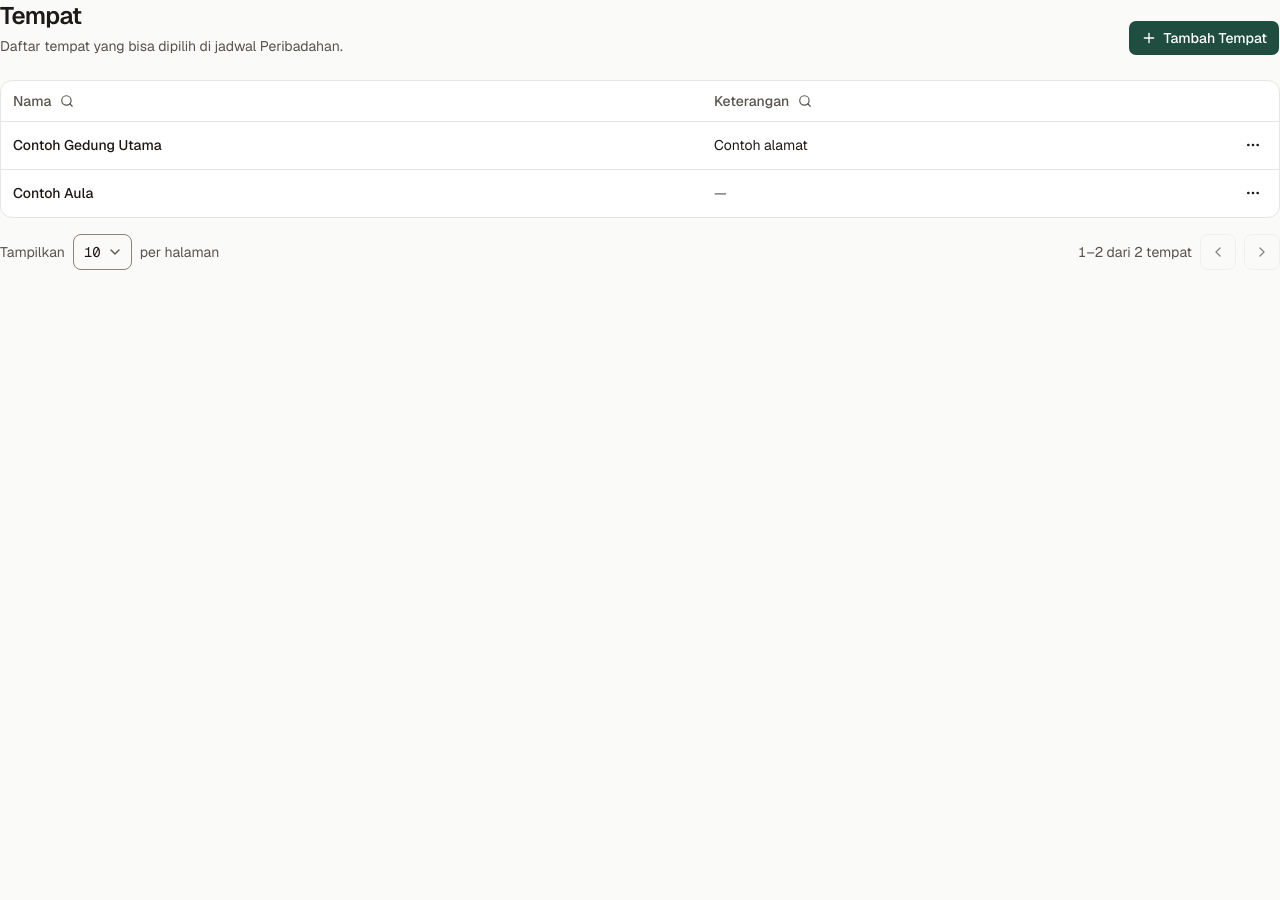
Test: MasterDataManager › adds through the dialog, trimming, then refreshes
Click the button "Tambah Tempat" at (1204, 38), box [1128, 20, 1279, 56]
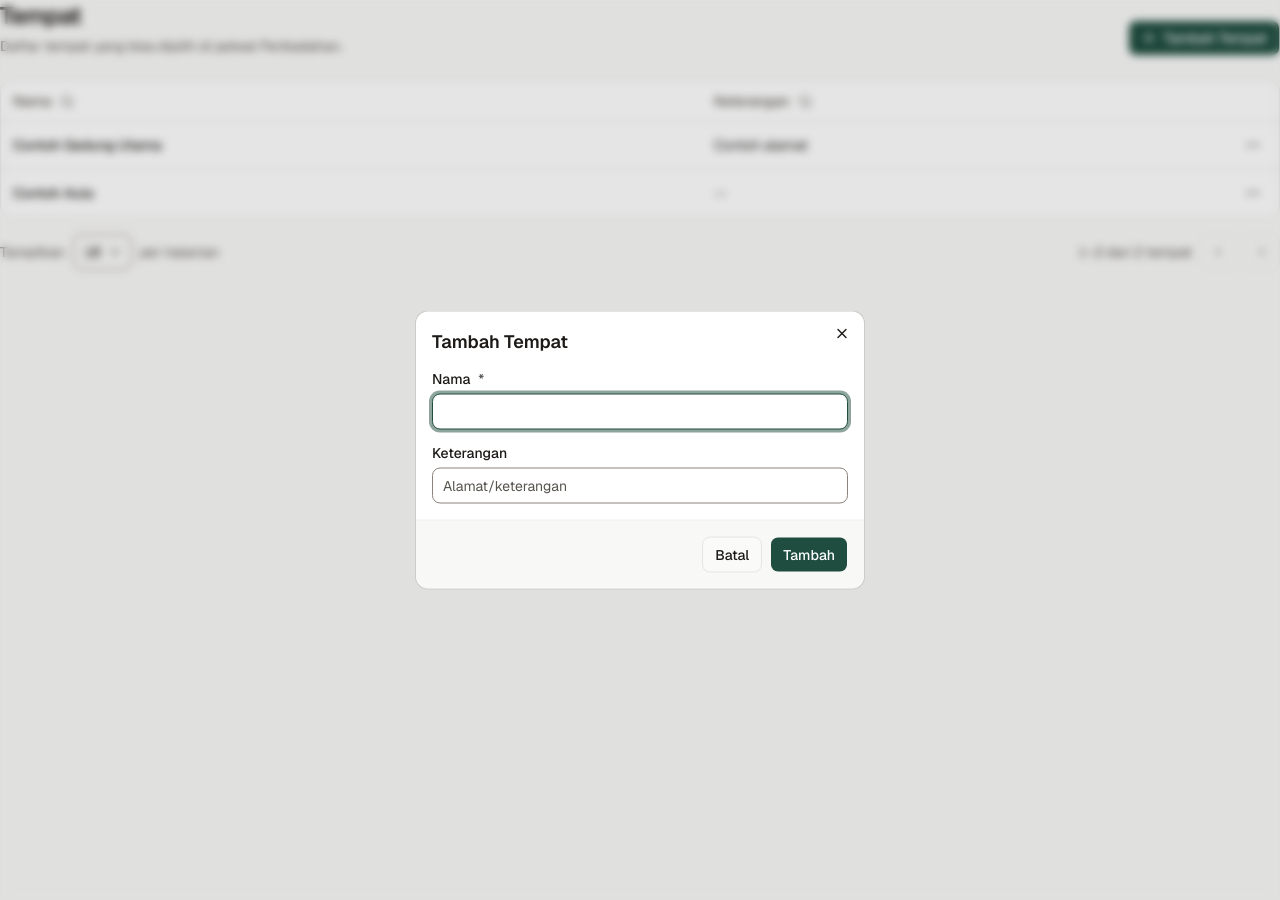
Note: Blank name: inline error, no request.
Click the button "Tambah" at (809, 554), box [770, 536, 848, 572]
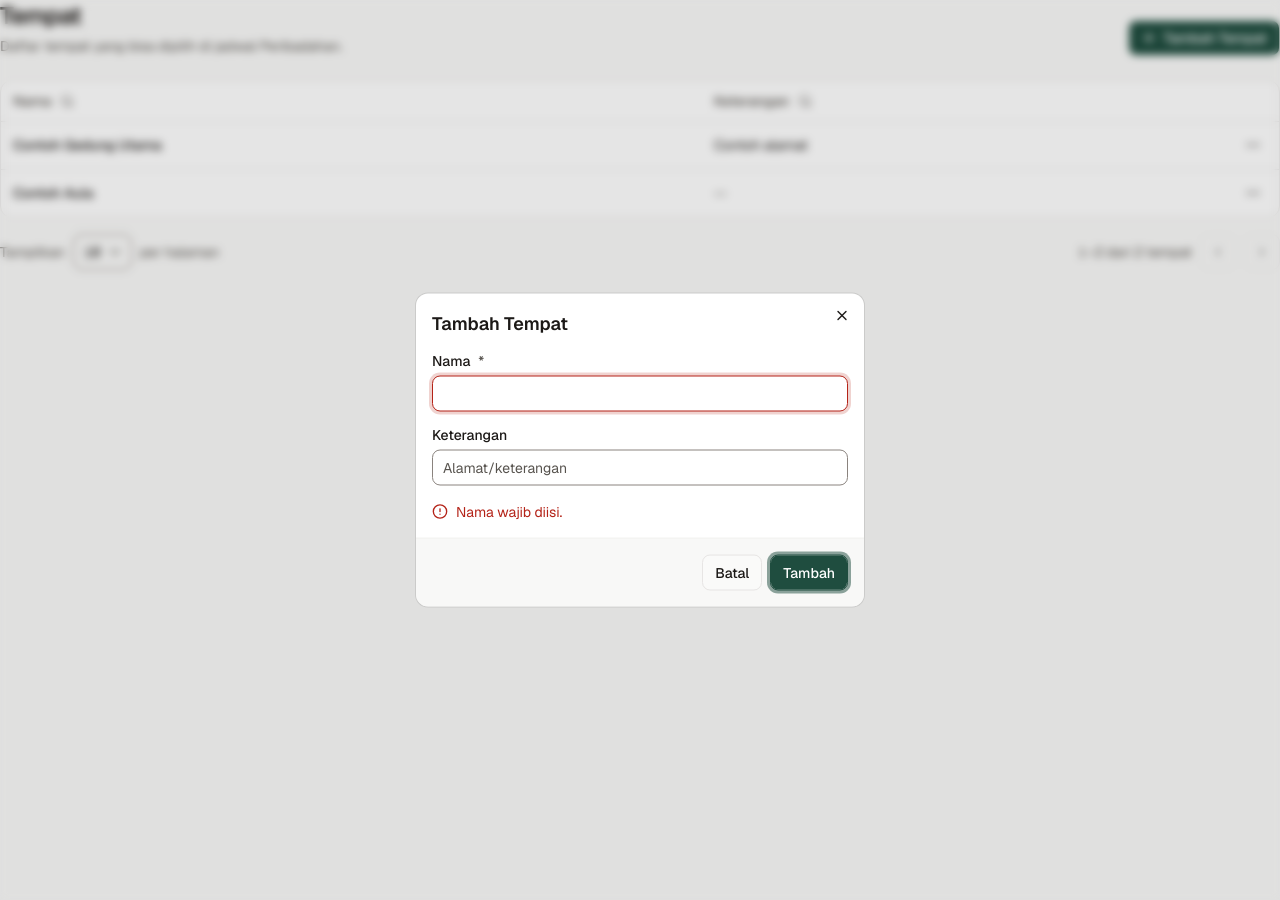
Now the message reads "Nama wajib diisi.", box [456, 502, 562, 520]
Type "  Contoh Baru " into the field labelled "Nama *" at (640, 394), box [432, 376, 848, 412]
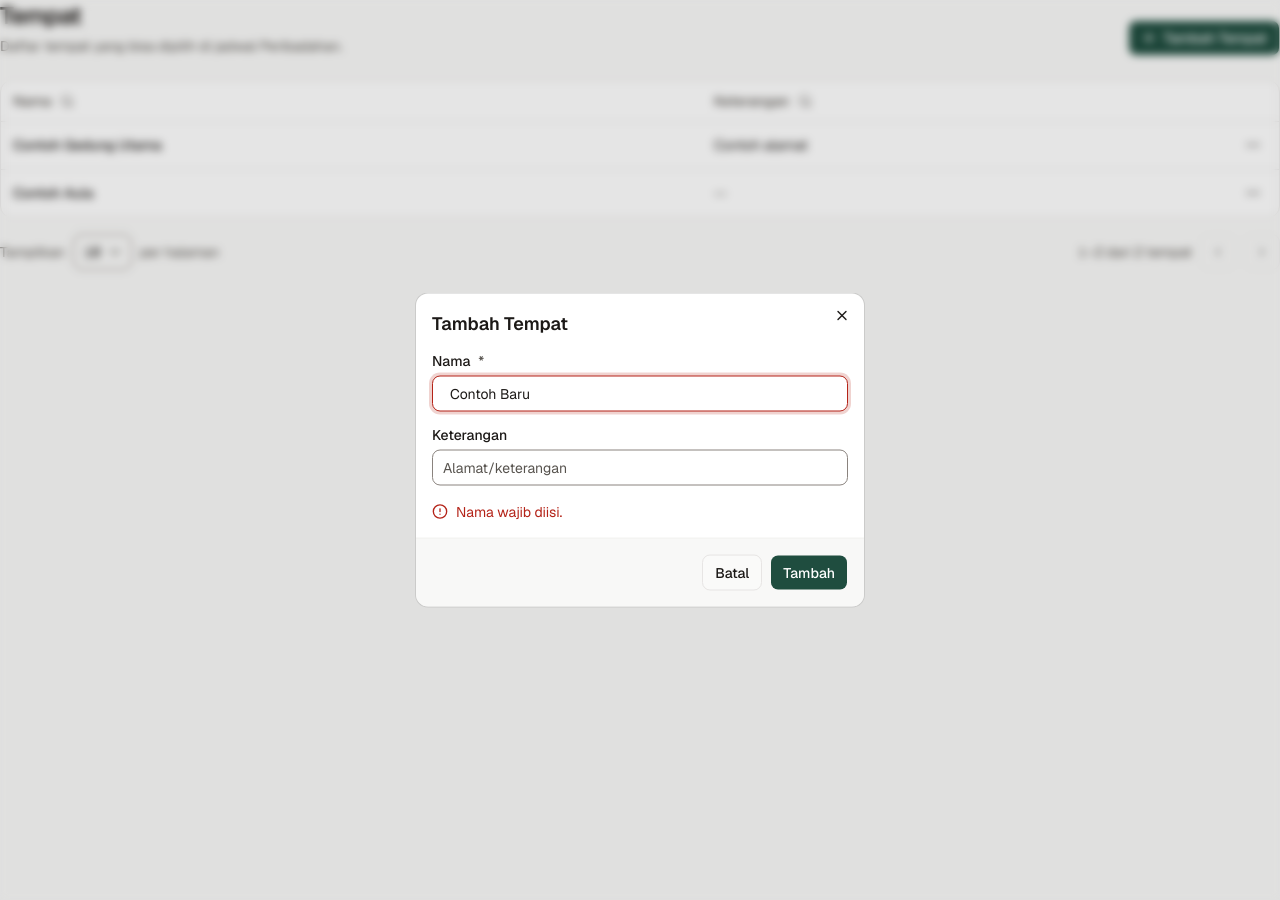
Click the button "Tambah" at (809, 572), box [770, 554, 848, 590]
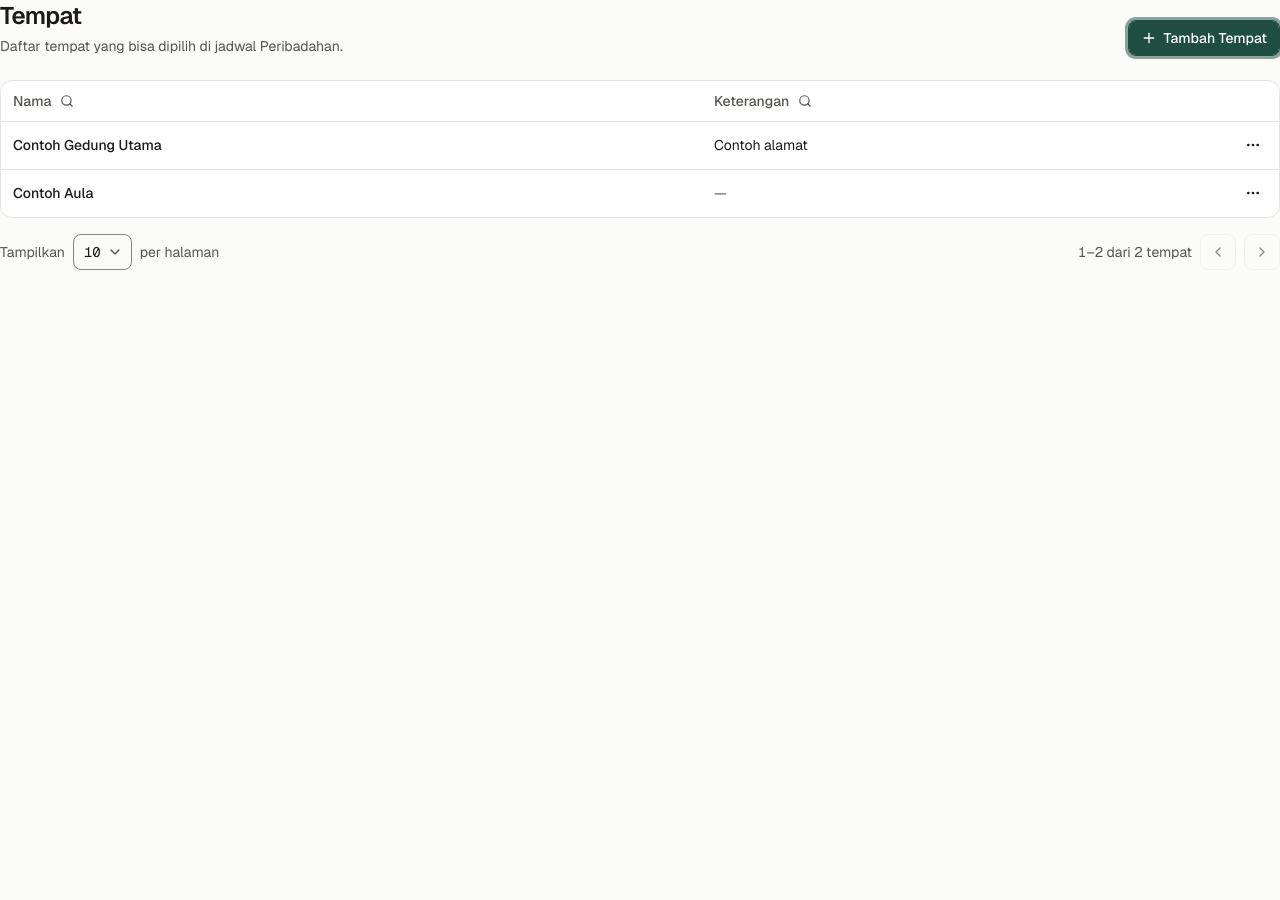
Now the dialog is gone
